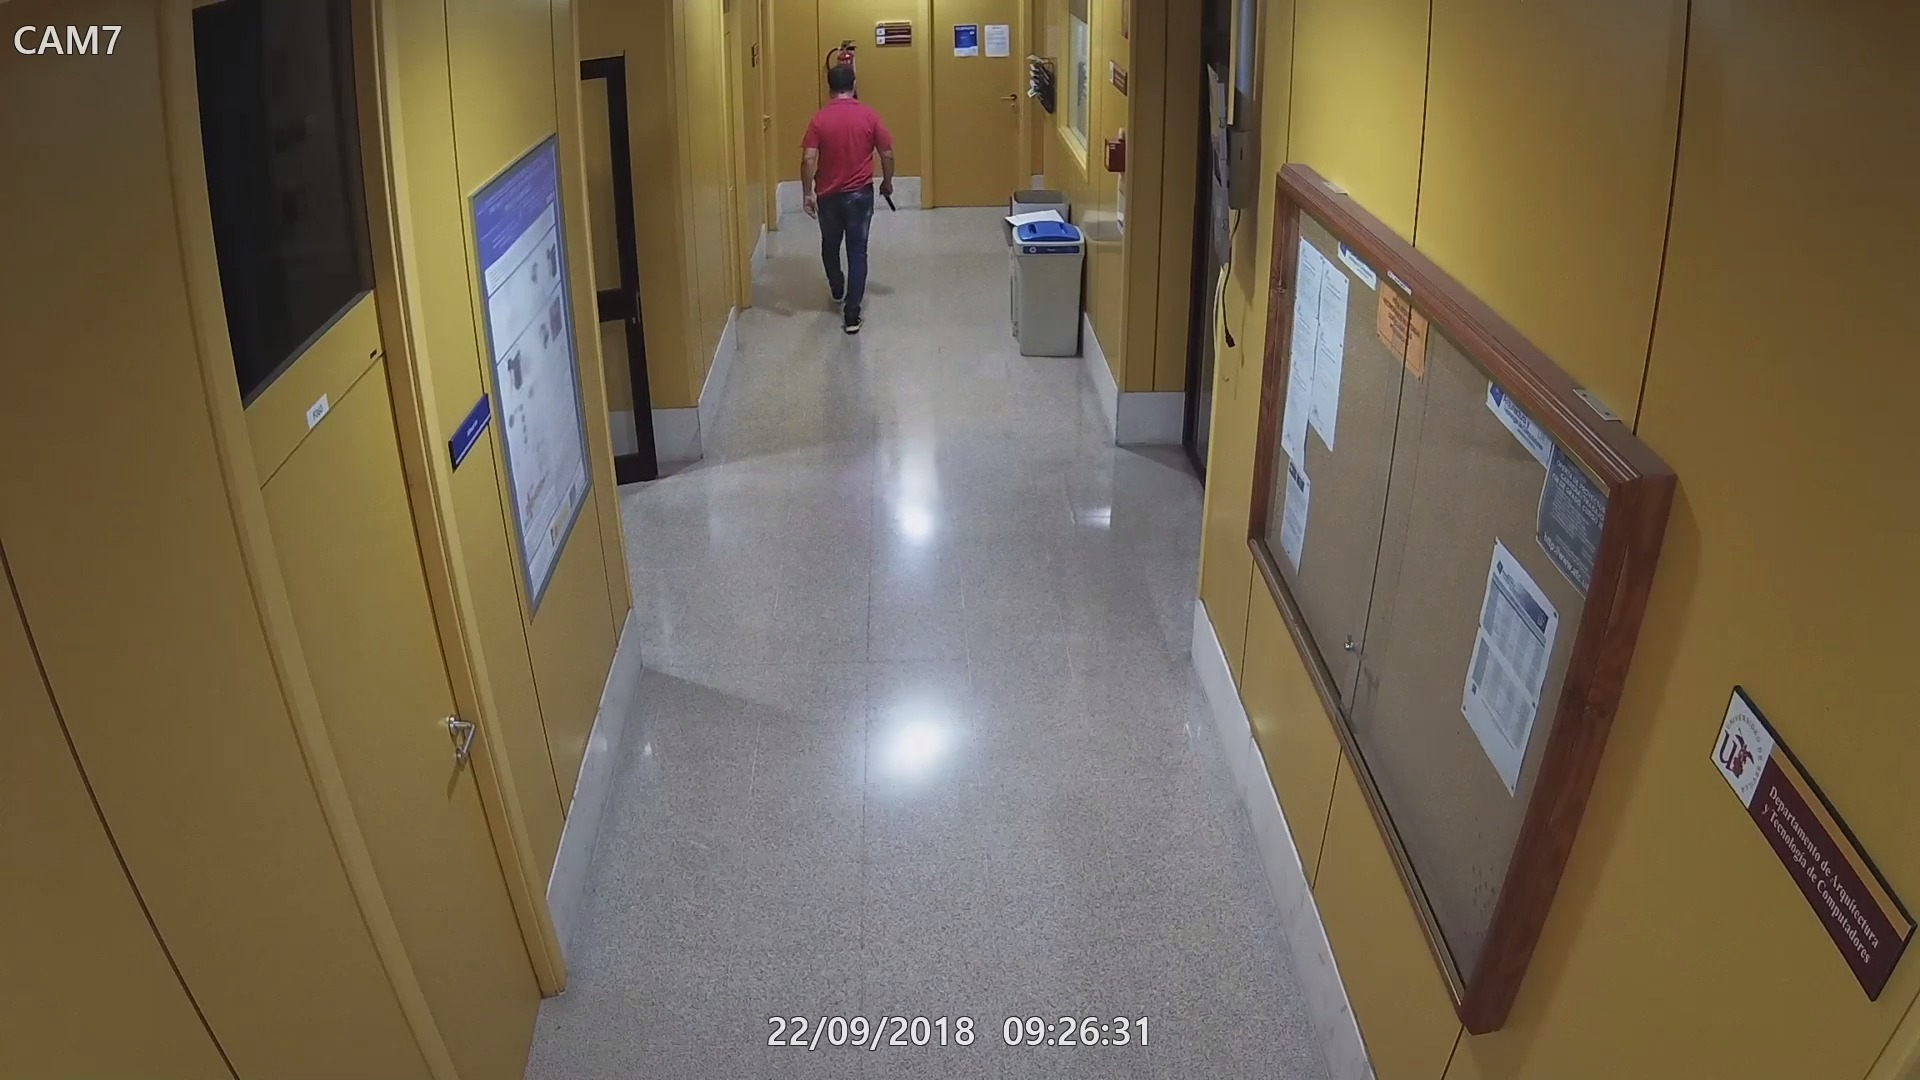Handgun: (876, 179, 901, 214)
